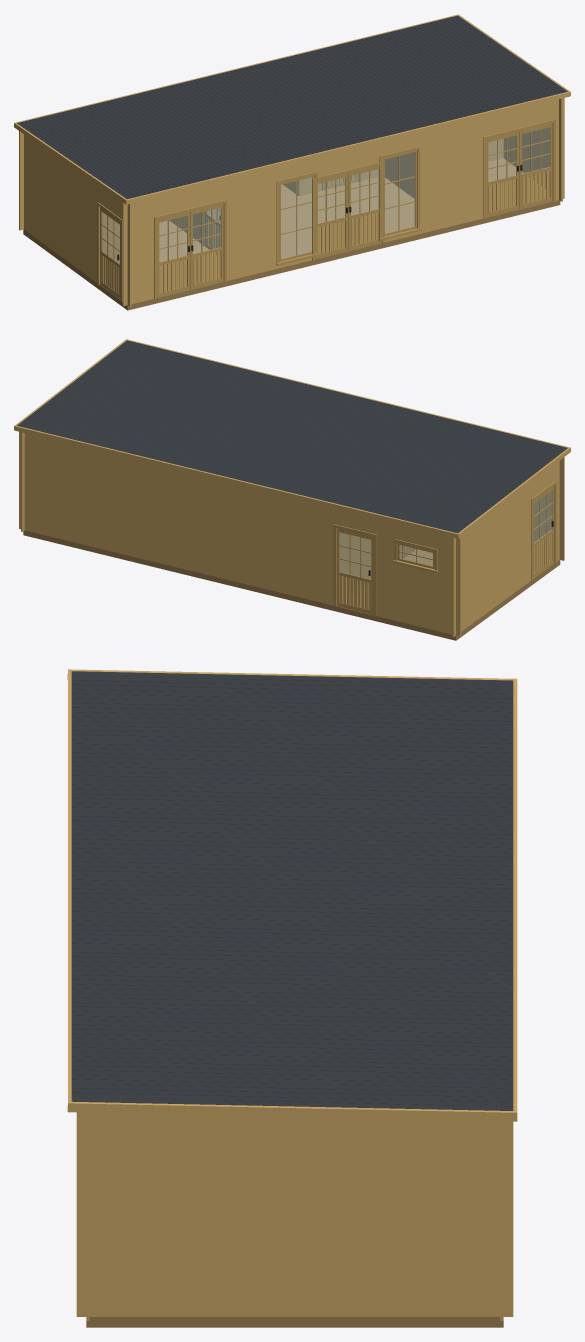
Rendered from прима_плюс_10_5_4_5_34_20_мм_5_комнат.glb.
3 views of the same model, one above another, from view 1: azimuth 30°, elevation 25°; view 2: azimuth 150°, elevation 25°; view 3: azimuth 270°, elevation 25° (orthographic). The views are drawn at different scales.
Parts seen in each view (by area): view 1: roof, walls, floor, Прима плюс 10,5×4,5 (34+20 мм, 5 комнат), object 123, object 135, object 53, object 31, object 70, object 109, object 14, object 92 (+1 smaller); view 2: roof, walls, Прима плюс 10,5×4,5 (34+20 мм, 5 комнат), object 241, object 275, object 254; view 3: roof, walls, Прима плюс 10,5×4,5 (34+20 мм, 5 комнат).
Part boxes in pixels (x1,y1,x2,y2): roof: [14, 14, 570, 204]; walls: [19, 98, 564, 306]; floor: [102, 158, 545, 291]; Прима плюс 10,5×4,5 (34+20 мм, 5 комнат): [23, 200, 560, 310]; object 123: [281, 177, 311, 258]; object 135: [384, 152, 414, 233]; object 53: [159, 216, 186, 261]; object 31: [351, 169, 378, 215]; object 70: [193, 208, 220, 253]; object 109: [522, 127, 549, 173]; object 14: [318, 177, 344, 223]; object 92: [488, 136, 515, 181]; roof: [14, 339, 570, 538]; walls: [19, 431, 564, 637]; Прима плюс 10,5×4,5 (34+20 мм, 5 комнат): [23, 530, 560, 640]; object 241: [339, 532, 370, 579]; object 275: [534, 491, 551, 542]; object 254: [400, 545, 432, 566]; roof: [67, 669, 517, 1121]; walls: [76, 1112, 513, 1320]; Прима плюс 10,5×4,5 (34+20 мм, 5 комнат): [86, 1317, 503, 1327].
Bounding box in the file's own units: 10.58 × 2.61 × 4.63.
